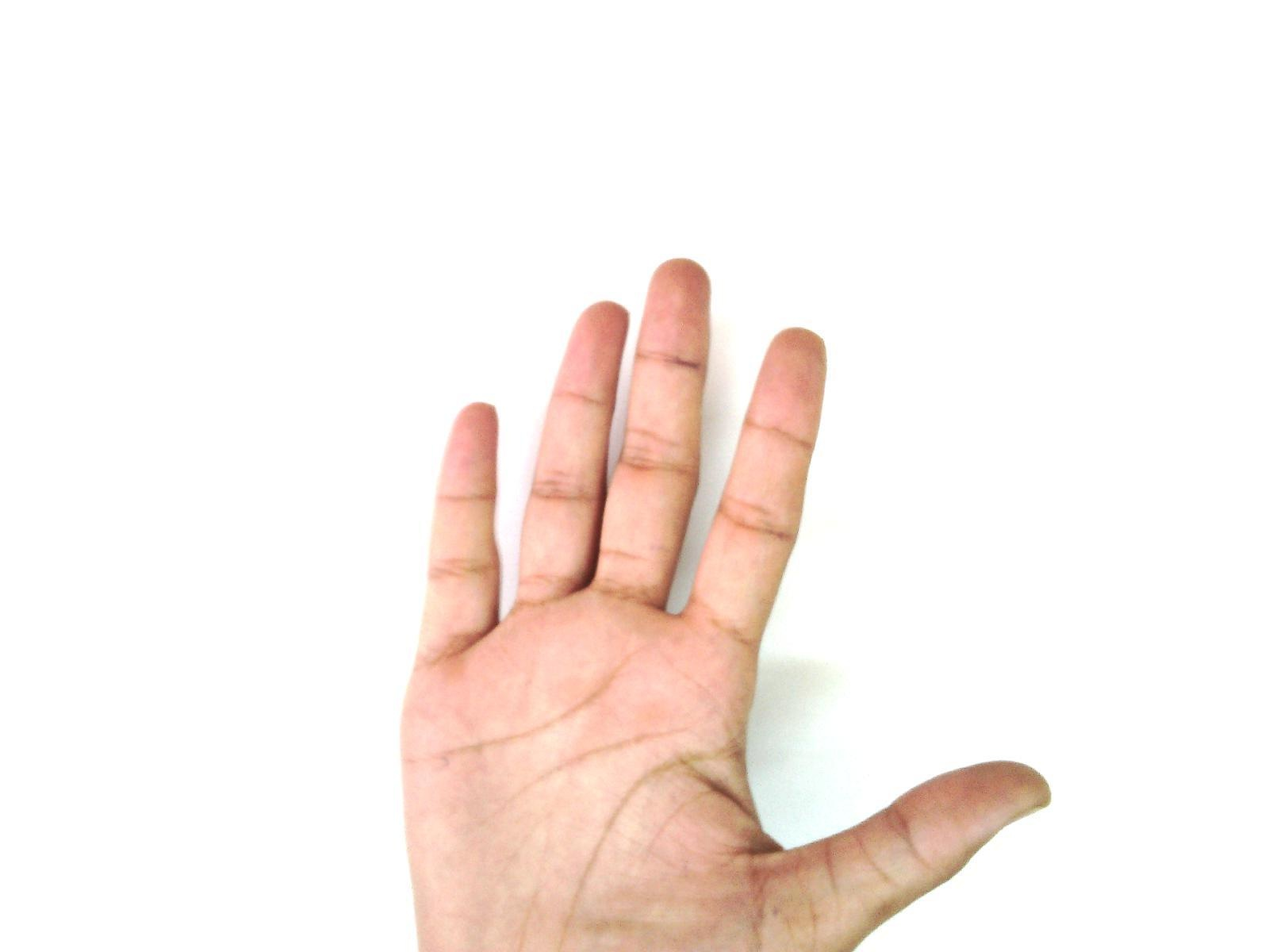open_palm: (396, 256, 1054, 951)
